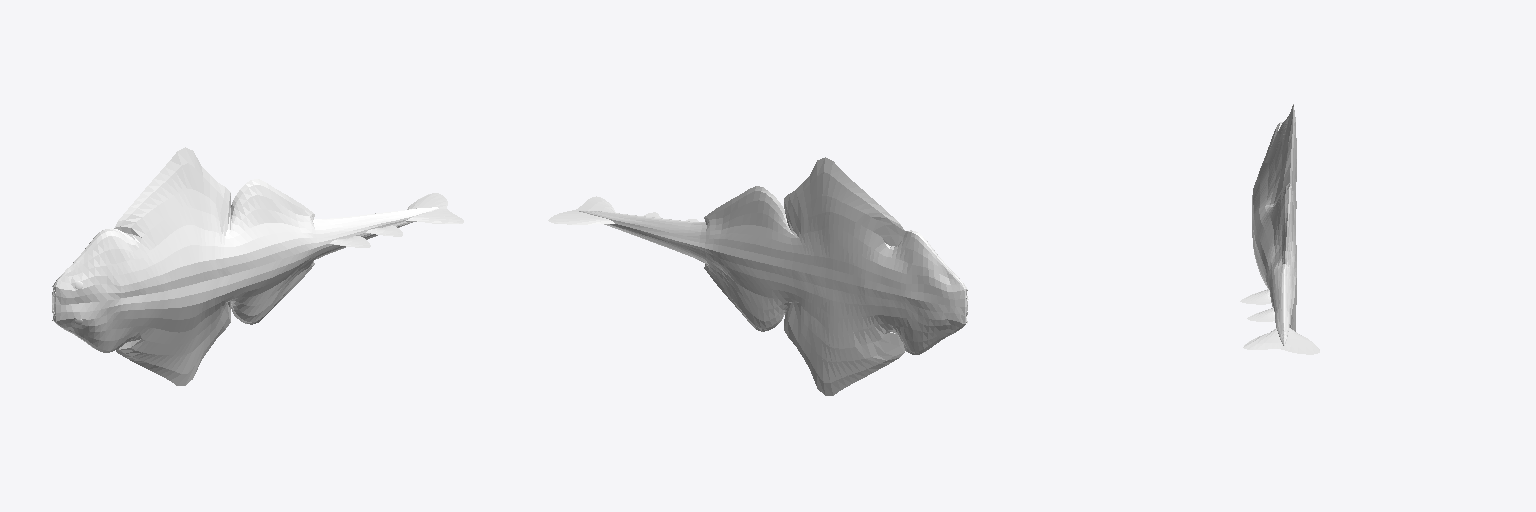
Rendered from AngelShark.obj.
3 views of the same model, side by side, from view 1: azimuth 30°, elevation 25°; view 2: azimuth 150°, elevation 25°; view 3: azimuth 270°, elevation 25° (orthographic).
Bounding box in the file's own units: 0.3996 × 0.2256 × 0.0692.